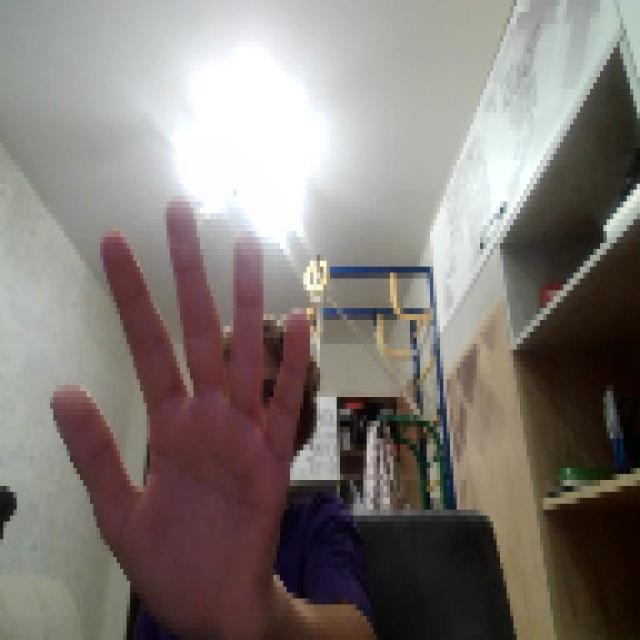hand: (46, 184, 306, 634)
